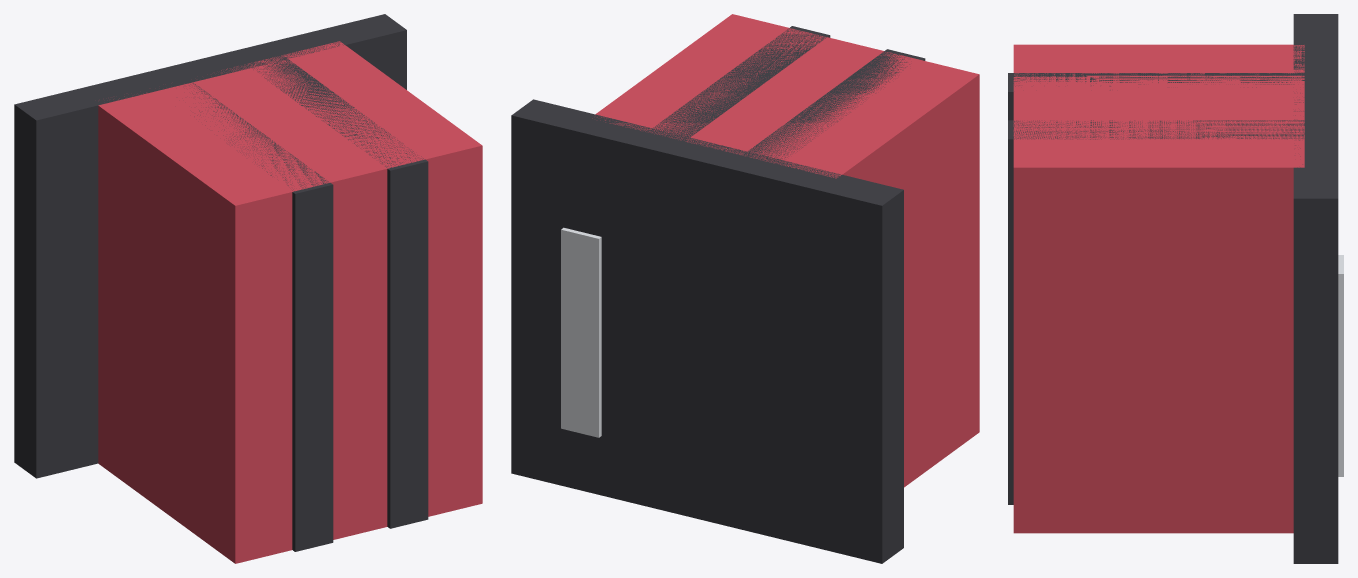
The model's file is punk_coxa.glb.
3 views of the same model, side by side, from view 1: azimuth 30°, elevation 25°; view 2: azimuth 150°, elevation 25°; view 3: azimuth 270°, elevation 25° (orthographic). The views are drawn at different scales.
Visible parts, largest first — view 1: punk_coxa; view 2: punk_coxa; view 3: punk_coxa.
Boxes of the visible parts, left/top/right/bottom form: punk_coxa: left=14, top=14, right=482, bottom=563; punk_coxa: left=511, top=14, right=979, bottom=563; punk_coxa: left=1008, top=14, right=1343, bottom=563.
Size of the model in its own units: 0.39 by 0.36 by 0.3.
